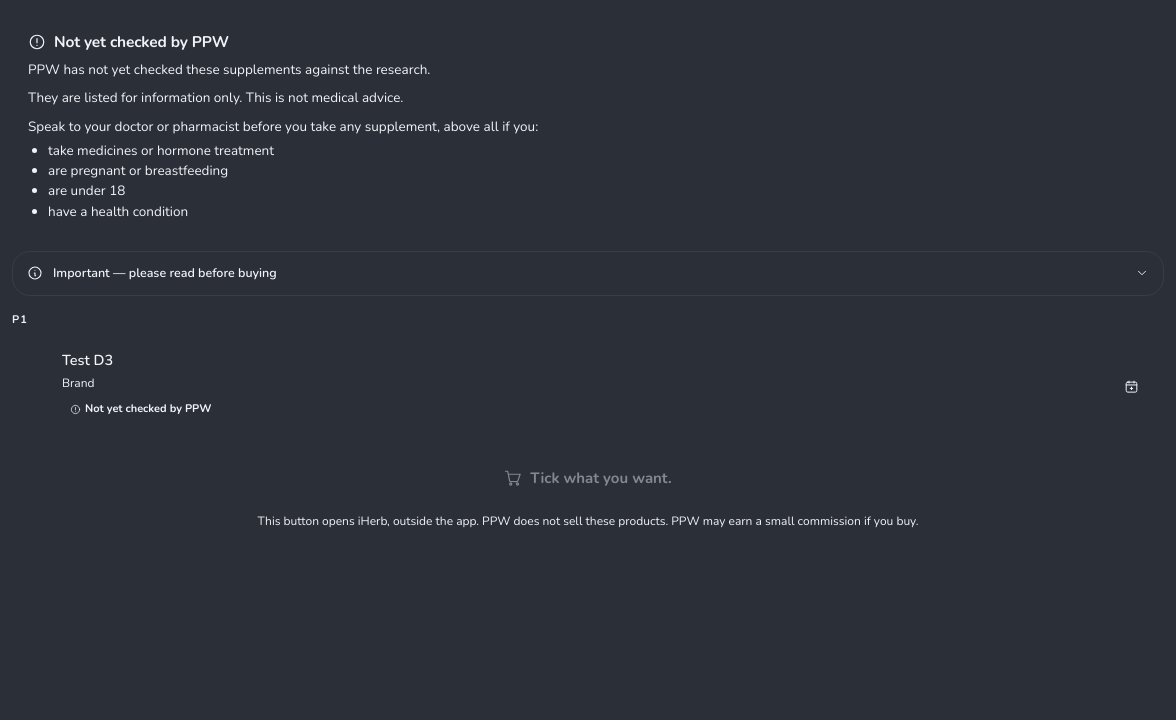
it: SuppsSection — buy flow + disclaimer gating › affiliate_live=true (fixture) → cash-commission claim IS rendered
# open the disclaimer expander so its body renders
Step 1. Click the button "Important — please read before buying" → (165, 272), box [13,252,1163,295]
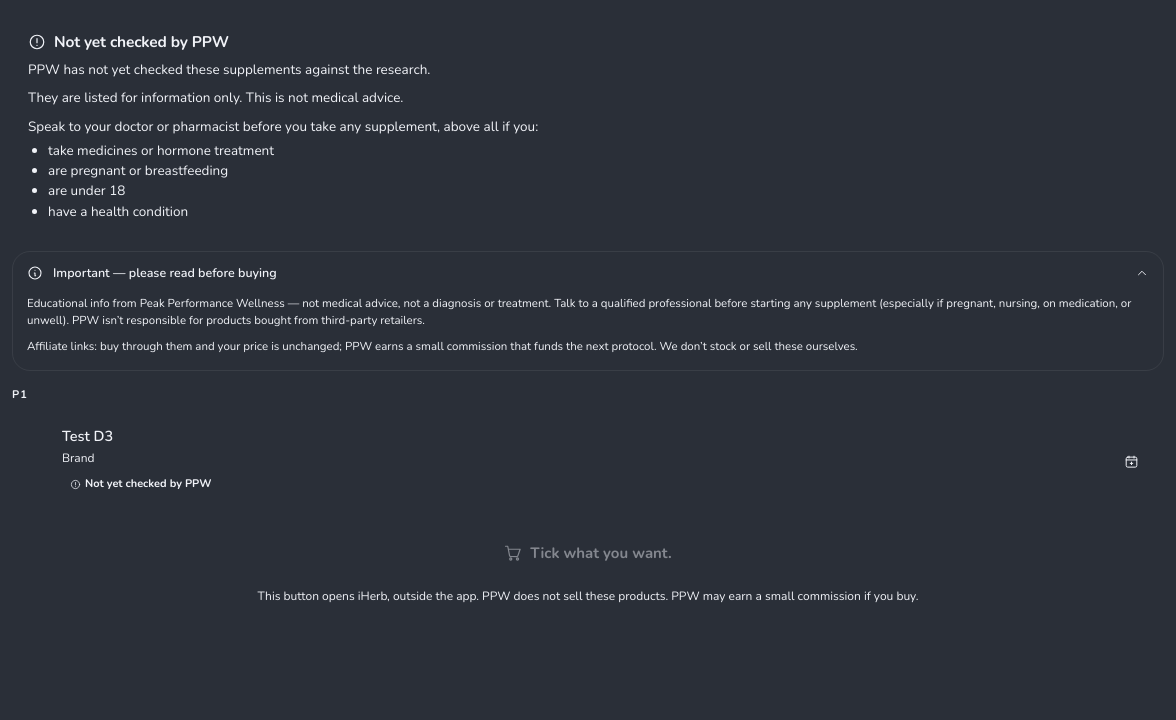
Result: the text "PPW earns a small commission" is shown at [27,338,858,354]
